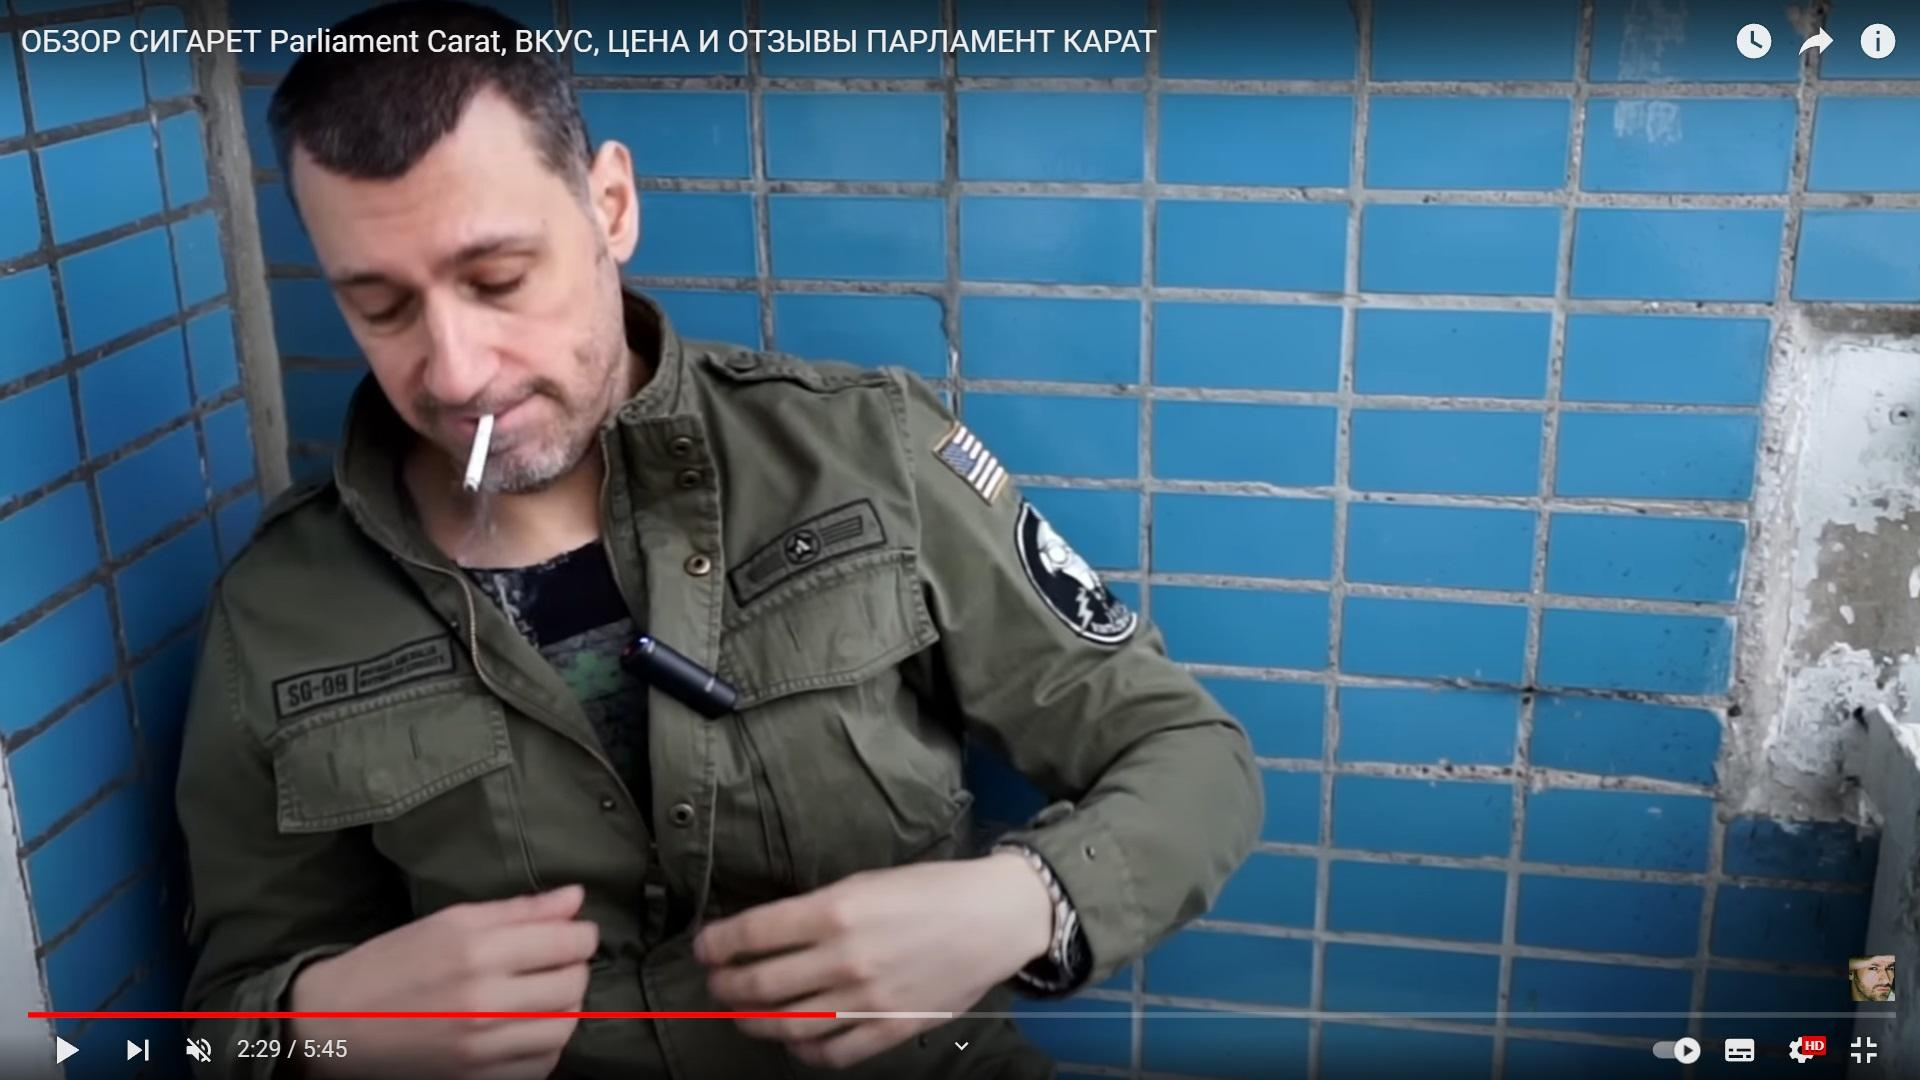cigarette: (464, 413, 496, 493)
